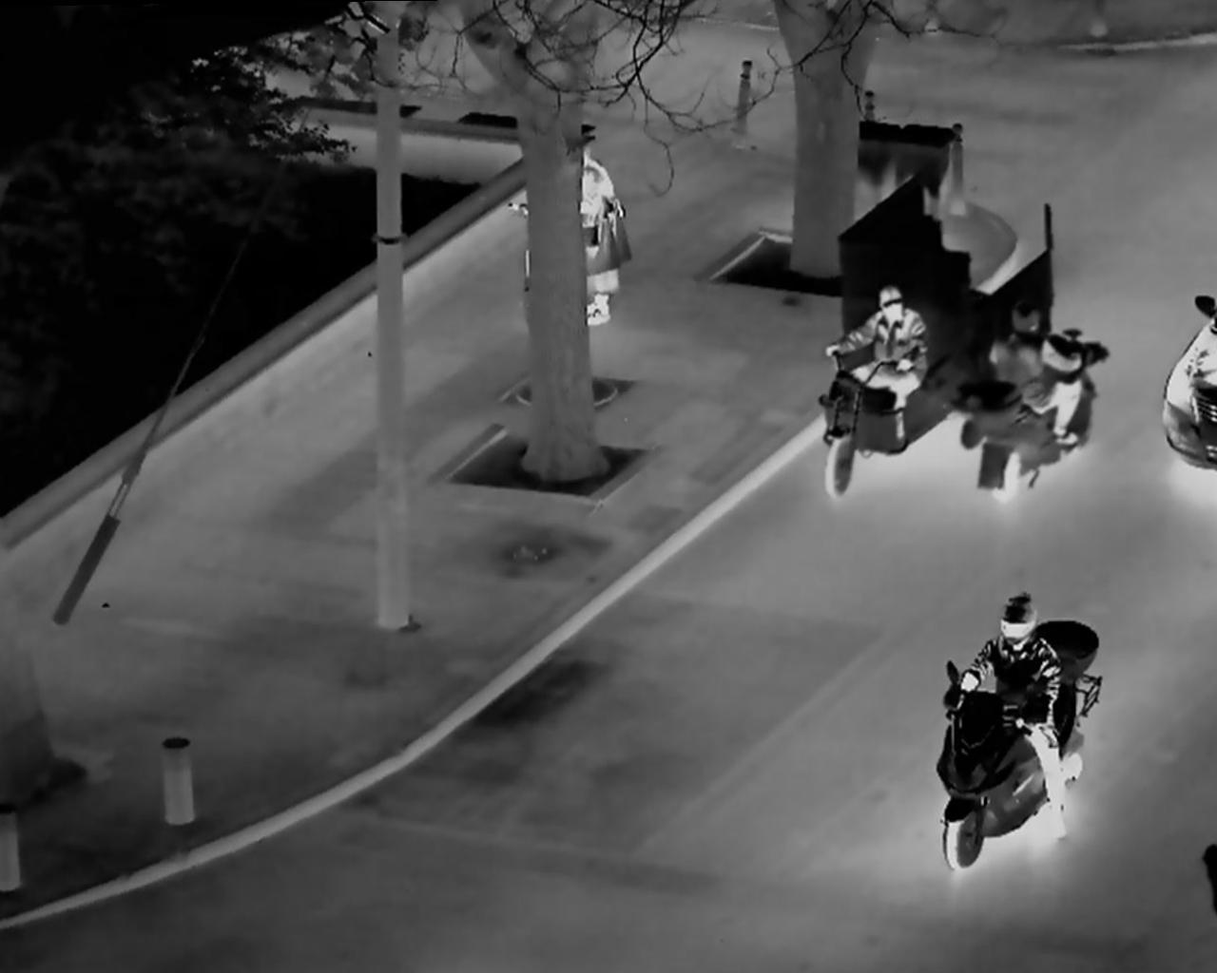person: (926, 560, 1101, 885), (974, 291, 1094, 480), (819, 274, 929, 468), (570, 143, 640, 333)
